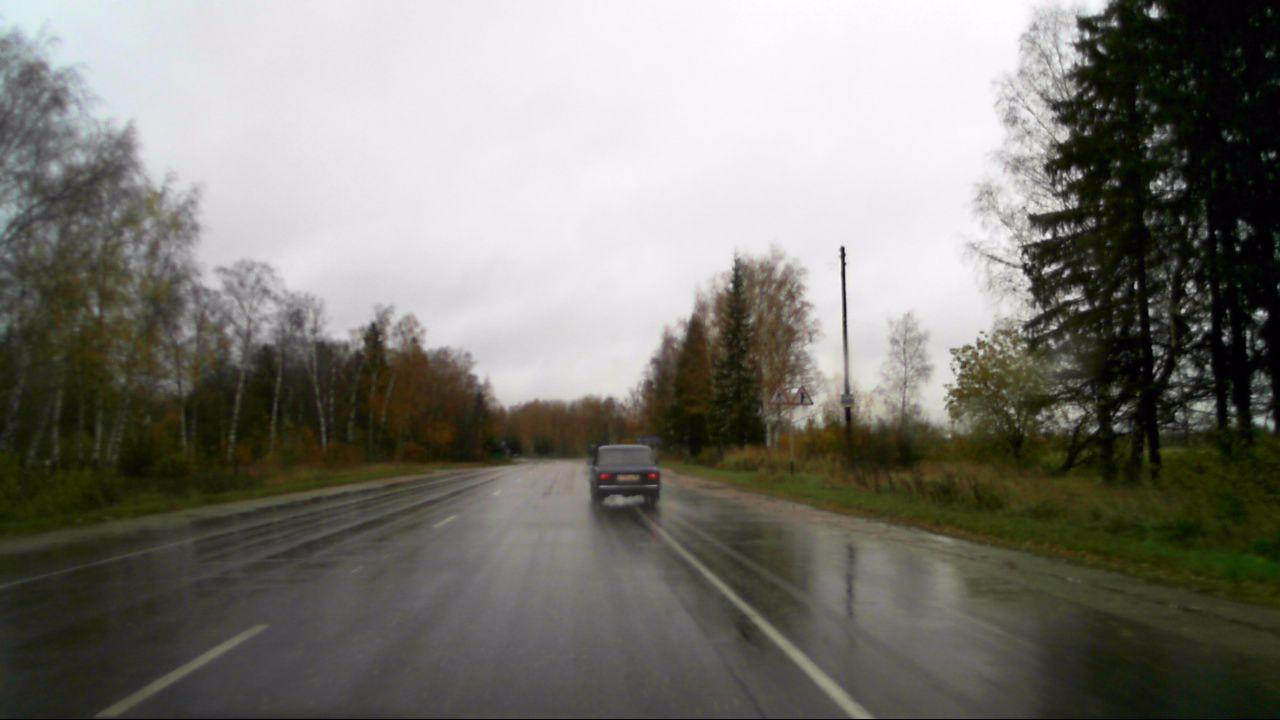road_sign: (791, 385, 814, 405)
